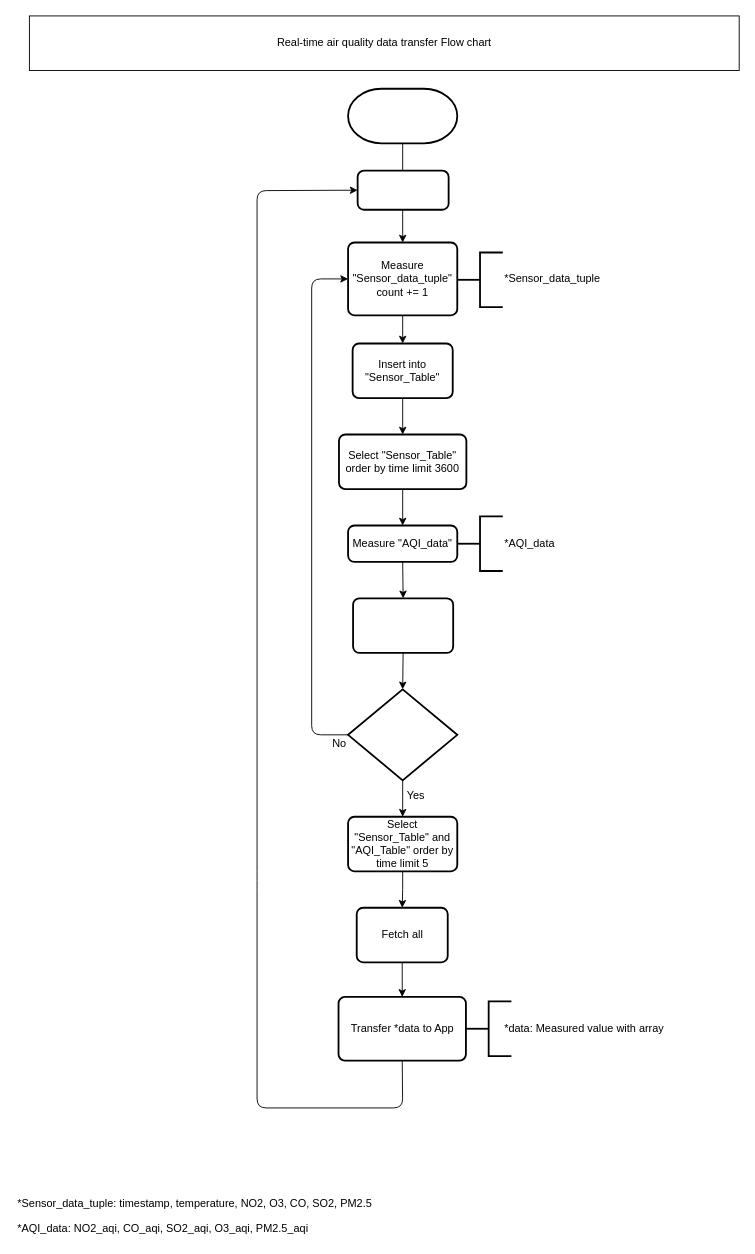
Some shapes in this 755 by 1254 pixel diagram are drawn without their labels. Each missing label, with the box of its shape:
count = 0: (356, 169, 449, 210)
count == 5: (347, 688, 458, 781)
Insert into "AQI_Table": (352, 597, 454, 653)
START: (347, 87, 458, 144)
